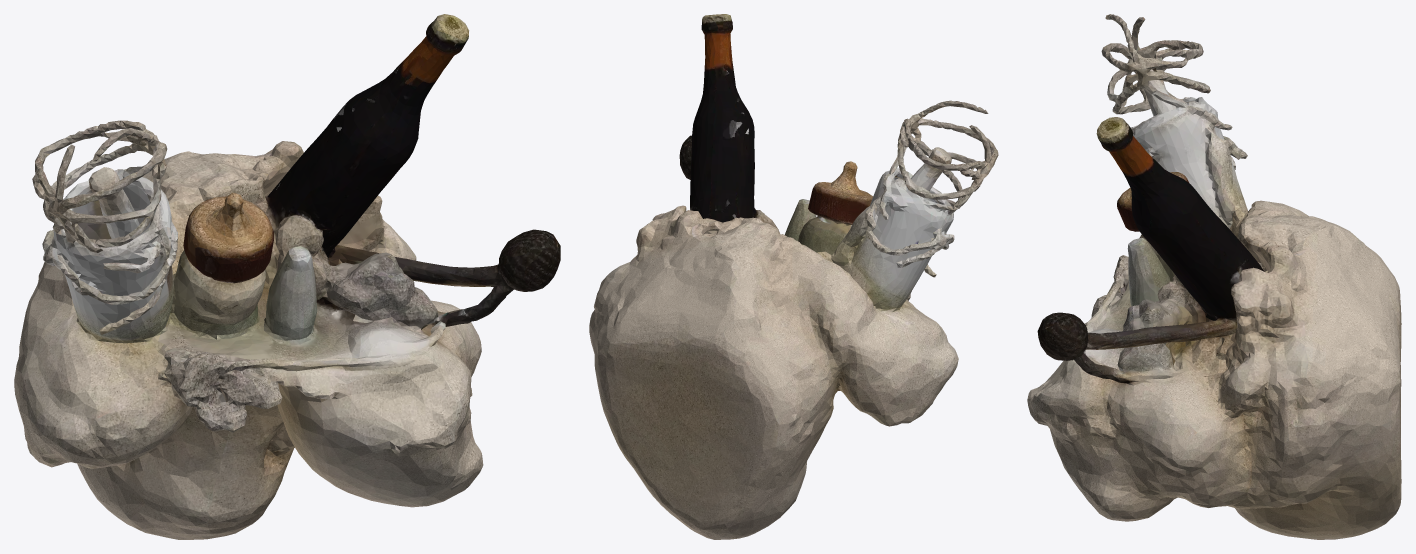
Rendered from wing (340).glb.
3 renders of one model, left to right at view 1: azimuth 30°, elevation 25°; view 2: azimuth 150°, elevation 25°; view 3: azimuth 270°, elevation 25°, orthographic. The views are drawn at different scales.
Parts seen in each view (by area): view 1: Hy21_Mesh.obj; view 2: Hy21_Mesh.obj; view 3: Hy21_Mesh.obj.
Part boxes in pixels (box(x1,y1,x2,y2)): Hy21_Mesh.obj: box(14, 14, 560, 539); Hy21_Mesh.obj: box(589, 14, 998, 539); Hy21_Mesh.obj: box(1027, 14, 1401, 539).
Size of the model in its own units: 1.06 by 1.24 by 0.8929.
Materials: 1 (1 with a texture image).
